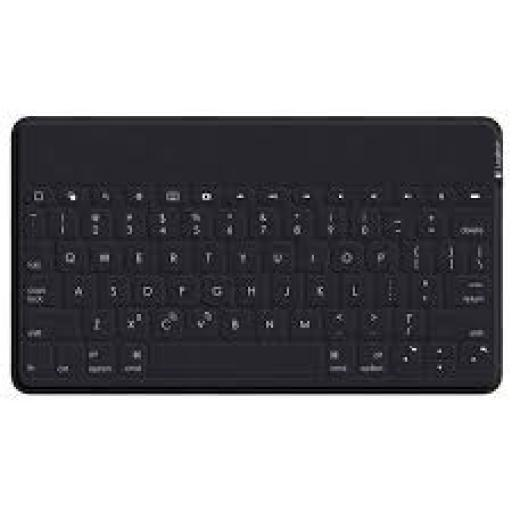KEYBOARD-2: (7, 116, 501, 391)
